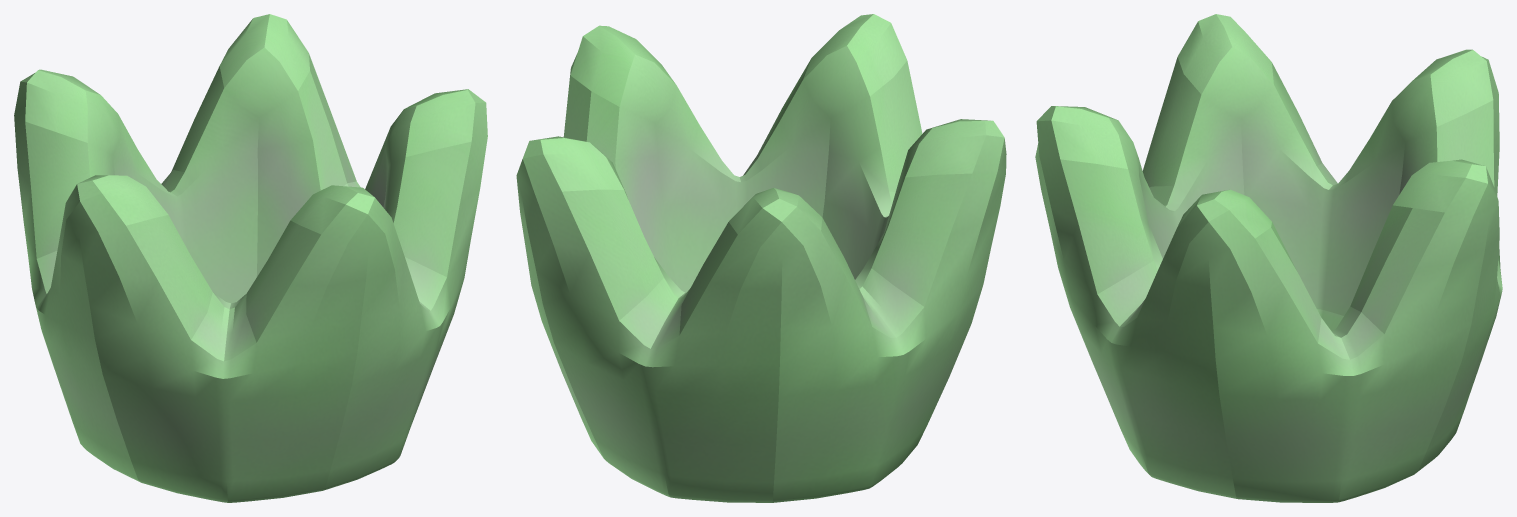
Rendered from MAMAMOO_01.glb.
3 renders of one model, left to right at view 1: azimuth 30°, elevation 25°; view 2: azimuth 150°, elevation 25°; view 3: azimuth 270°, elevation 25°, orthographic. The views are drawn at different scales.
Parts seen in each view (by area): view 1: MAMAMOO_01; view 2: MAMAMOO_01; view 3: MAMAMOO_01.
Boxes of the visible parts, <box> form: MAMAMOO_01: <box>14,14,487,502</box>; MAMAMOO_01: <box>516,14,1006,502</box>; MAMAMOO_01: <box>1035,14,1502,502</box>.
Size of the model in its own units: 0.0636 by 0.0479 by 0.0615.
1 material, 1 textured.
